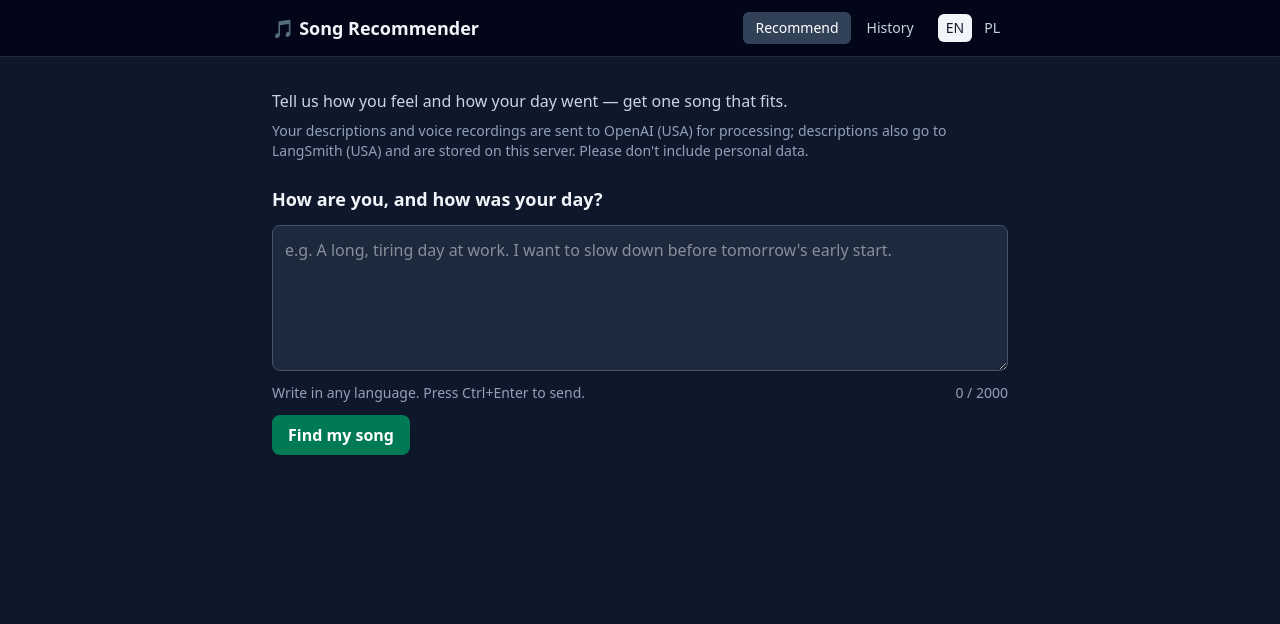
it: LanguageSwitcher › shows error messages in the selected language
Click the button with aria-label "Polski": x=992, y=28 [976,14,1008,42]
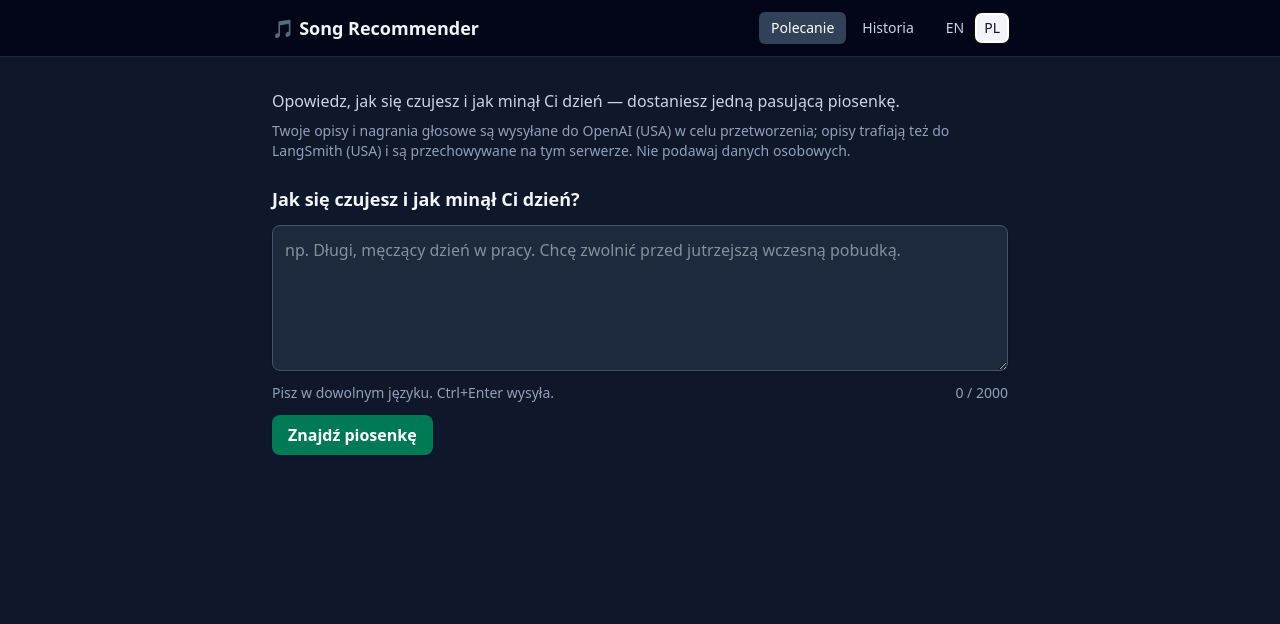
In the text box labelled "Jak się czujesz i jak minął Ci dzień?": x=640, y=298 [272,225,1008,371], type "Zmęczony."
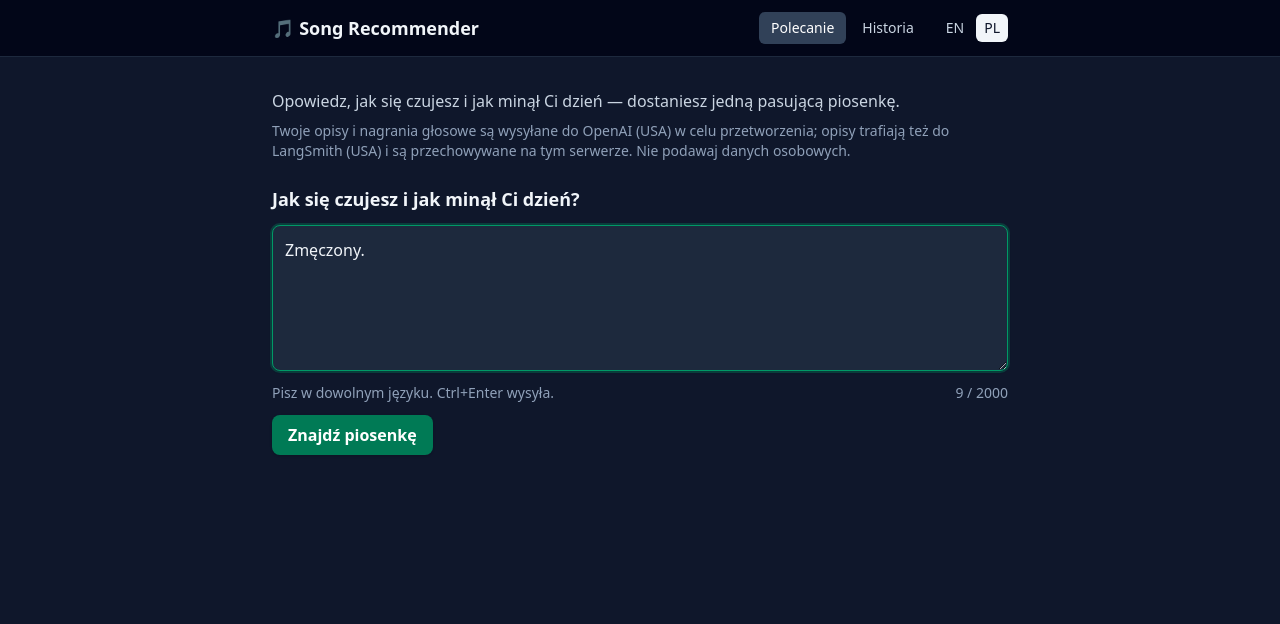
Click the button "Znajdź piosenkę": x=352, y=435 [272,415,433,455]
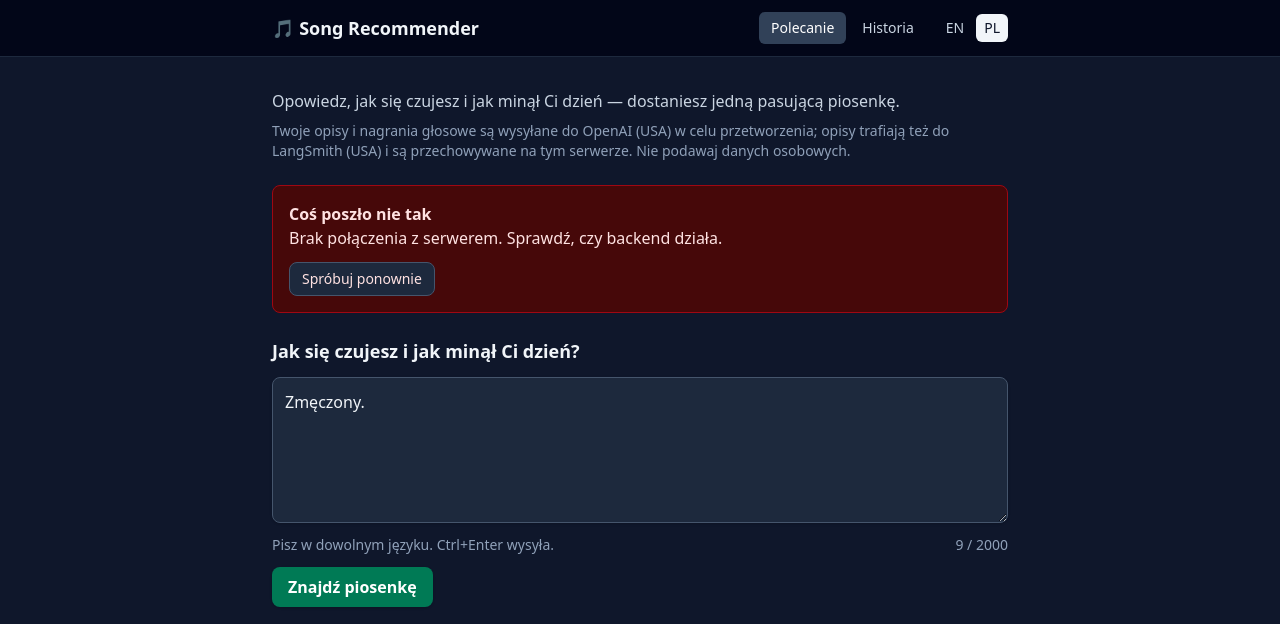
Expected: the message shows "Brak połączenia z serwerem. Sprawdź, czy backend działa.", [289,227,722,249]
